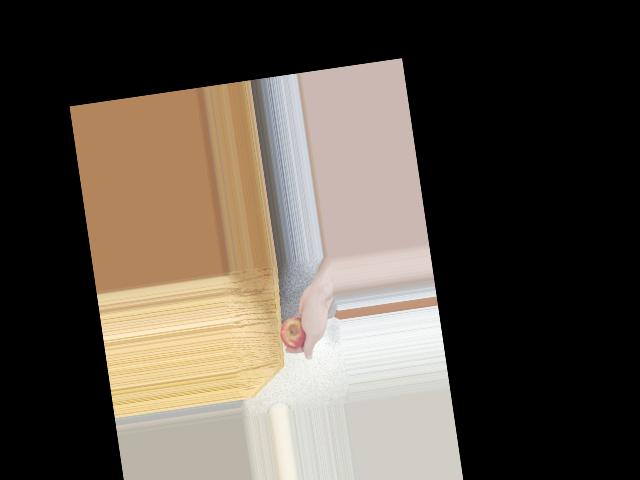apple: (276, 308, 311, 351)
